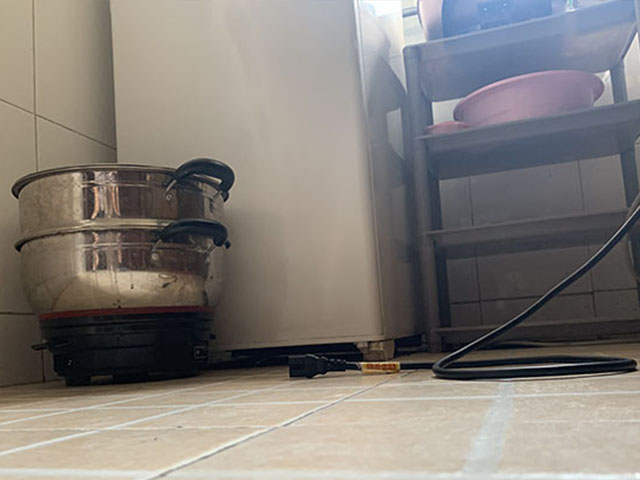wire: (436, 203, 640, 346), (284, 348, 640, 383)
